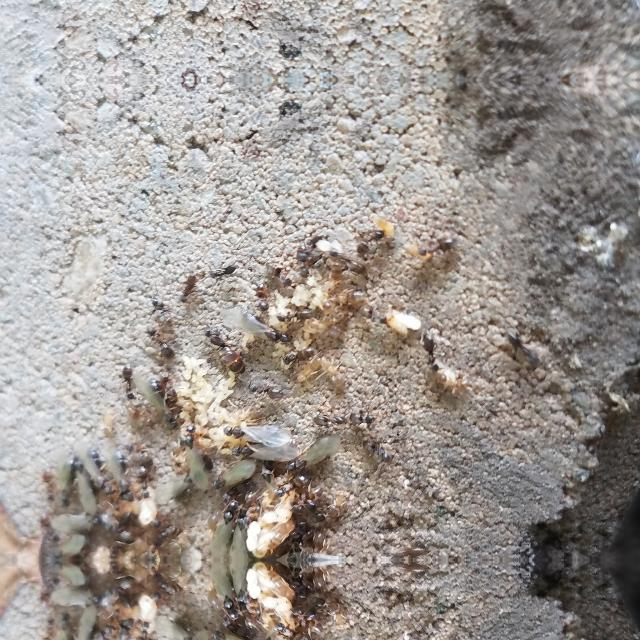Tapinoma: (204, 489, 254, 559), (204, 561, 254, 631), (94, 439, 150, 501), (198, 323, 250, 377), (142, 372, 188, 430), (56, 444, 98, 502), (282, 434, 342, 474), (66, 434, 110, 488), (237, 312, 297, 348), (410, 325, 450, 375), (178, 428, 210, 490), (222, 440, 308, 462), (220, 418, 292, 444), (312, 404, 378, 432), (90, 508, 140, 544), (90, 576, 140, 612), (138, 521, 185, 559), (138, 561, 185, 599), (211, 458, 279, 484), (138, 324, 182, 364), (226, 502, 254, 560), (226, 560, 254, 618), (354, 433, 400, 467), (290, 225, 332, 261), (320, 284, 372, 312), (171, 268, 205, 308), (50, 507, 102, 533), (50, 587, 102, 613), (414, 232, 462, 260), (276, 341, 324, 369), (112, 361, 142, 404), (350, 223, 390, 255), (130, 458, 160, 500), (94, 618, 150, 640), (270, 470, 310, 500), (382, 537, 433, 559), (382, 561, 433, 583), (33, 465, 61, 505), (328, 245, 364, 275), (275, 300, 319, 324), (268, 264, 302, 294), (54, 618, 98, 640), (248, 280, 278, 312), (50, 538, 90, 560), (50, 560, 90, 582), (301, 493, 331, 522), (301, 598, 331, 626), (270, 618, 308, 640), (33, 614, 61, 640), (130, 618, 160, 640)
